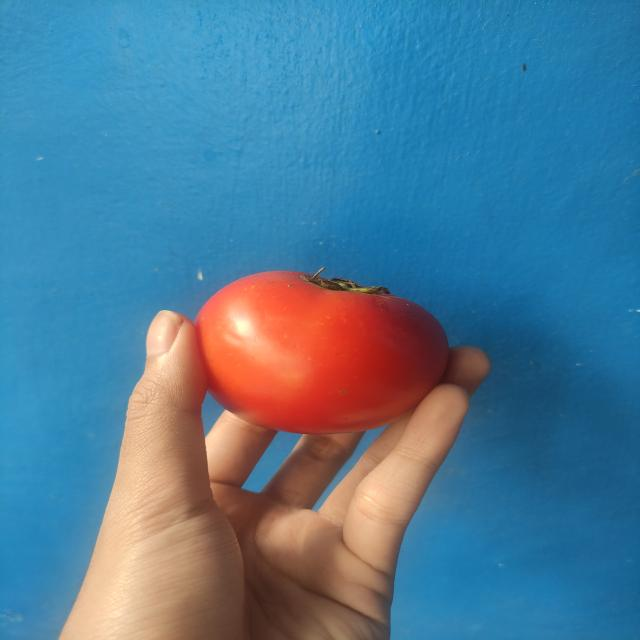ripe tomato: (194, 264, 452, 432)
